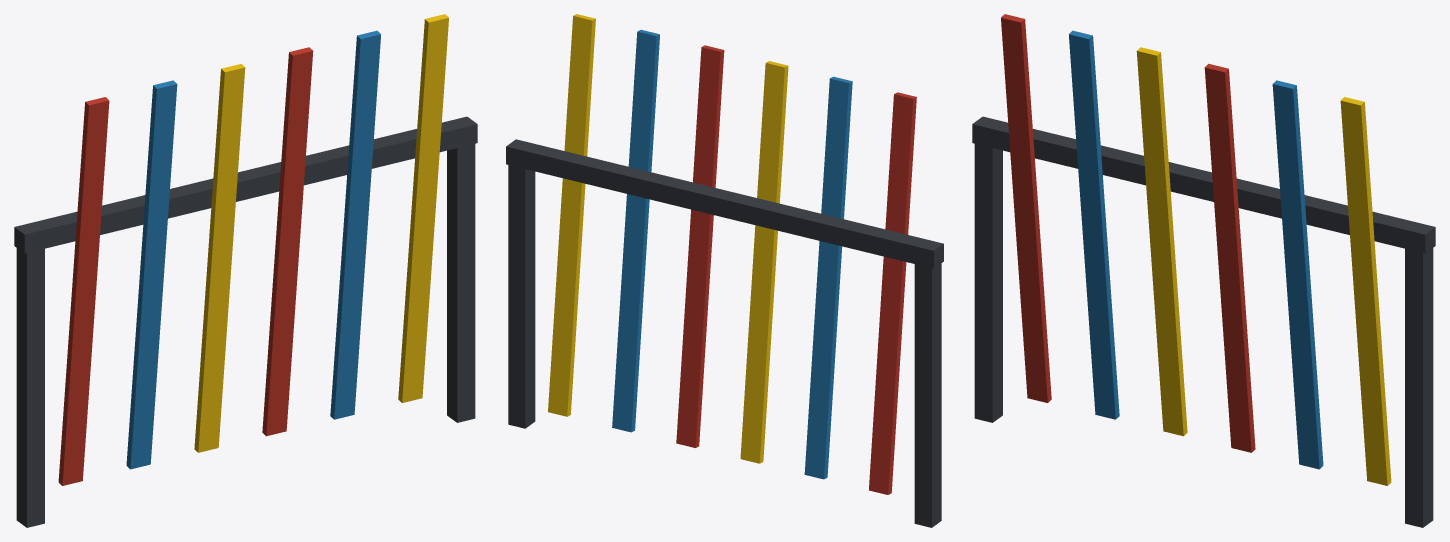
File: ski_rack.glb
The picture shows the model from 3 angles, left to right: view 1: azimuth 30°, elevation 25°; view 2: azimuth 150°, elevation 25°; view 3: azimuth 330°, elevation 25°; orthographic projection. The views are drawn at different scales.
Parts seen in each view (by area): view 1: rack; view 2: rack; view 3: rack.
Boxes of the visible parts, x1=… form: rack: x1=14, y1=14, x2=477, y2=527; rack: x1=506, y1=14, x2=943, y2=527; rack: x1=972, y1=14, x2=1435, y2=527.
Size of the model in its own units: 2 by 1.8 by 0.2333.
